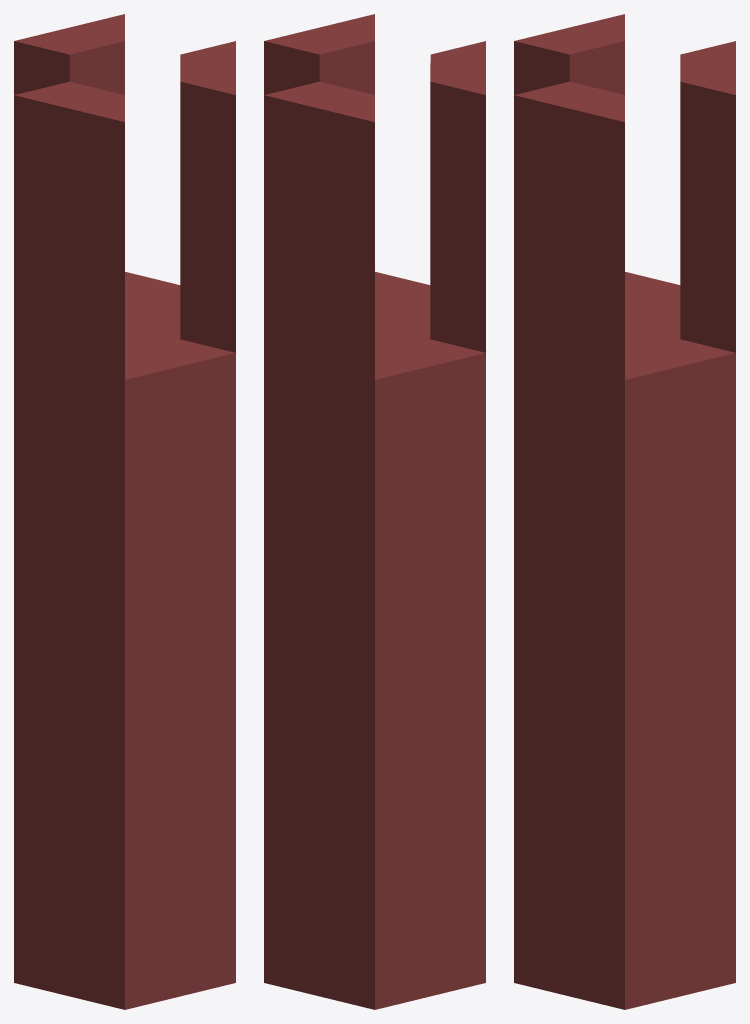
The model's file is Hex_Tall_11.fbx.
3 renders of one model, left to right at view 1: azimuth 30°, elevation 25°; view 2: azimuth 150°, elevation 25°; view 3: azimuth 270°, elevation 25°, orthographic.
Parts seen in each view (by area): view 1: TileHex11; view 2: TileHex11; view 3: TileHex11.
Part boxes in pixels (box(x1,y1,x2,y2)): TileHex11: box(14, 14, 235, 1009); TileHex11: box(264, 14, 485, 1009); TileHex11: box(514, 14, 735, 1009).
Size of the model in its own units: 118 by 450 by 102.
